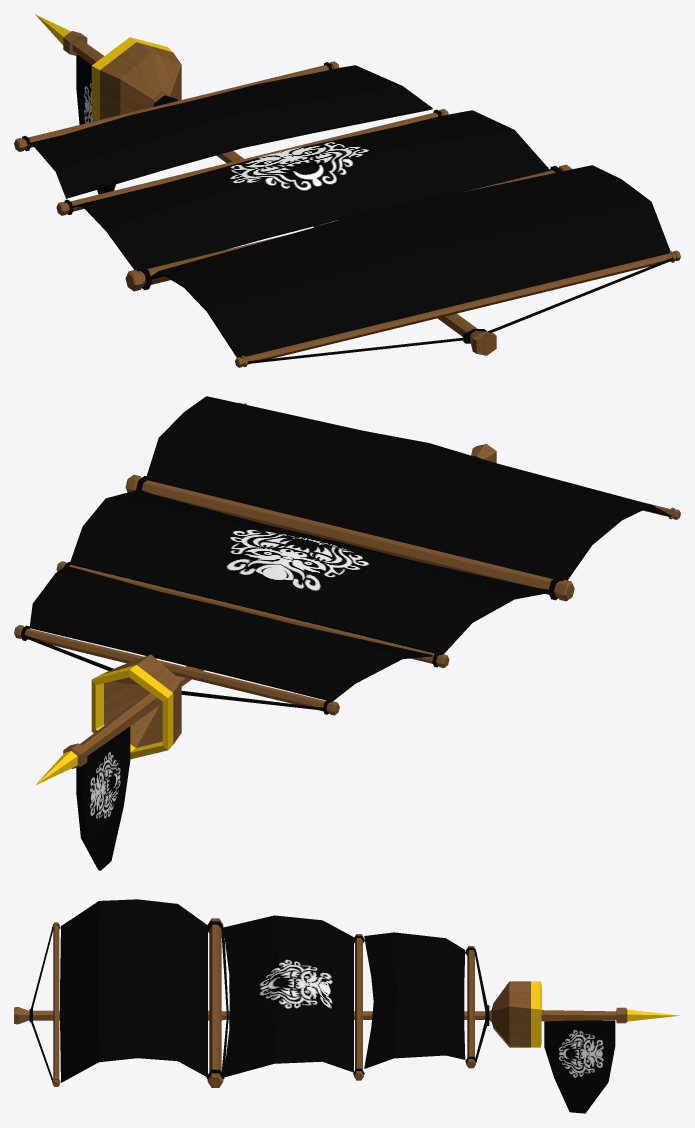
File: sail_a_24.fbx
3 views of the same model, one above another, from view 1: azimuth 30°, elevation 25°; view 2: azimuth 150°, elevation 25°; view 3: azimuth 270°, elevation 25° (orthographic). The views are drawn at different scales.
Parts seen in each view (by area): view 1: Cube.219; view 2: Cube.219; view 3: Cube.219.
Boxes of the visible parts, bbox=[...] form: Cube.219: bbox=[14, 14, 680, 367]; Cube.219: bbox=[14, 396, 680, 870]; Cube.219: bbox=[14, 899, 679, 1113].
Bounding box in the file's own units: 221 × 92.21 × 389.
